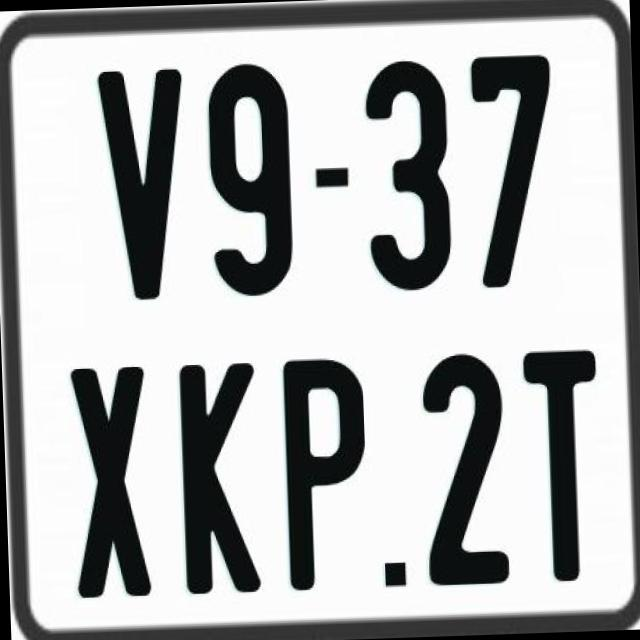2: (419, 351, 515, 588)
3: (361, 56, 454, 290)
7: (466, 51, 554, 286)
9: (204, 59, 299, 298)
K: (176, 362, 259, 596)
P: (278, 356, 374, 590)
T: (522, 347, 610, 580)
V: (98, 67, 196, 307)
X: (66, 364, 148, 598)
